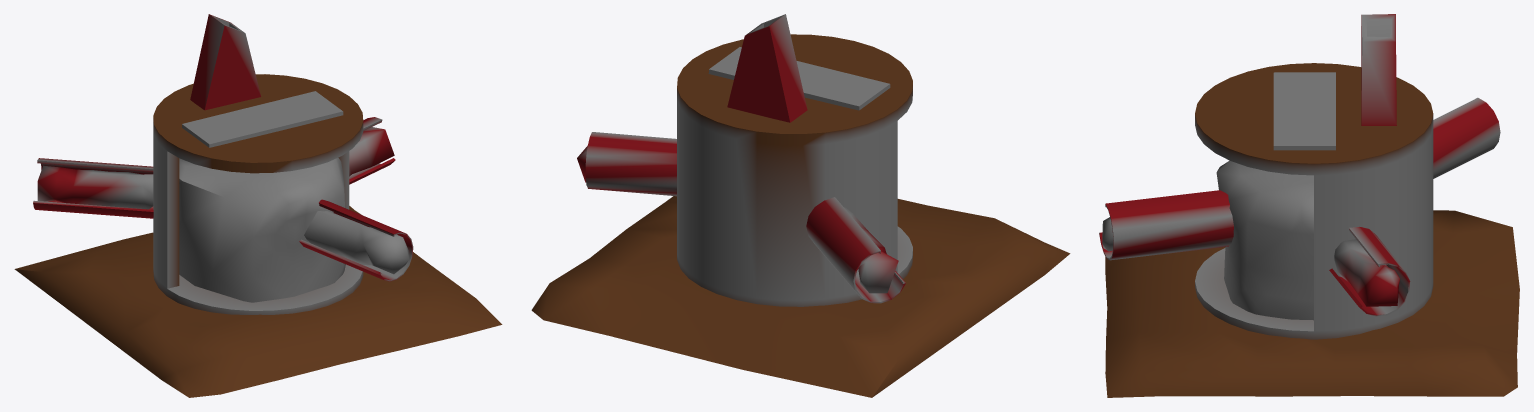
The model's file is modelo_prueba.glb.
3 renders of one model, left to right at view 1: azimuth 30°, elevation 25°; view 2: azimuth 150°, elevation 25°; view 3: azimuth 270°, elevation 25°, orthographic. The views are drawn at different scales.
Parts seen in each view (by area): view 1: lumbrera_Generica_001_v001; view 2: lumbrera_Generica_001_v001; view 3: lumbrera_Generica_001_v001.
Part boxes in pixels (x1=…): lumbrera_Generica_001_v001: x1=14, y1=14, x2=502, y2=397; lumbrera_Generica_001_v001: x1=531, y1=14, x2=1070, y2=397; lumbrera_Generica_001_v001: x1=1099, y1=14, x2=1519, y2=397.
Bounding box in the file's own units: 1.32 × 1.01 × 1.32.
